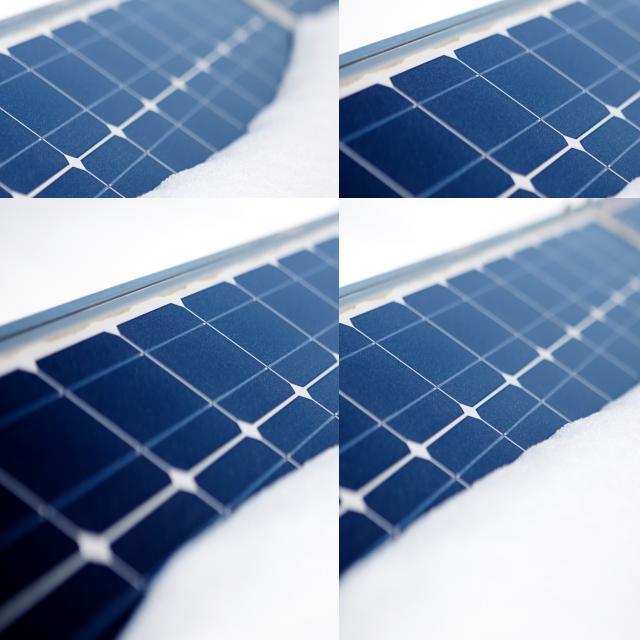crack: (0, 0, 48, 50), (0, 0, 42, 50), (0, 0, 39, 50), (0, 0, 32, 42), (0, 0, 33, 35), (0, 0, 25, 34), (0, 0, 29, 29), (0, 0, 25, 24), (0, 0, 26, 22), (0, 0, 23, 20), (0, 0, 23, 19)
dust: (368, 2, 438, 30), (378, 0, 434, 23), (339, 0, 363, 45), (379, 0, 431, 19), (420, 38, 469, 57), (362, 0, 433, 13), (446, 0, 480, 26), (339, 0, 365, 33), (443, 0, 477, 25), (445, 7, 480, 30), (339, 0, 362, 31), (339, 0, 360, 29), (339, 37, 365, 58), (339, 0, 357, 22), (339, 0, 358, 19), (440, 0, 465, 10)
panel: (89, 444, 262, 640), (464, 358, 616, 558), (362, 494, 540, 624), (192, 473, 339, 604), (339, 464, 431, 640), (123, 198, 237, 307), (409, 198, 640, 247), (0, 237, 110, 332), (554, 381, 640, 496), (295, 337, 339, 538), (339, 211, 406, 327), (339, 257, 403, 352), (240, 198, 339, 228)
